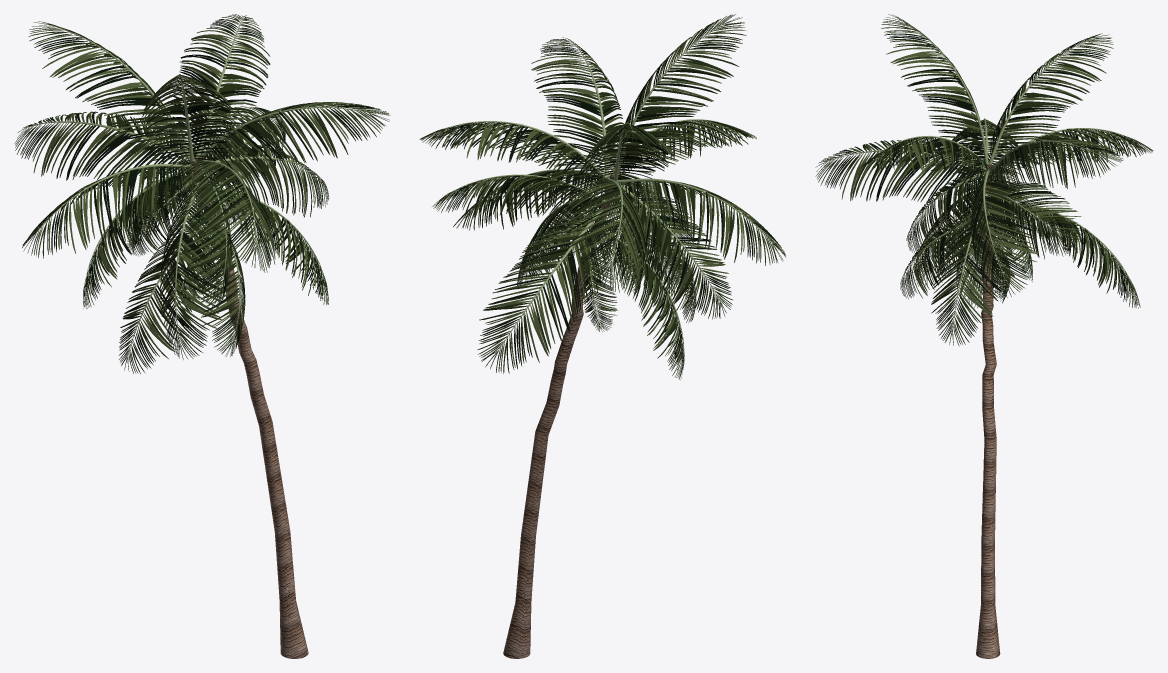
The model's file is PalmTree.fbx.
3 renders of one model, left to right at view 1: azimuth 30°, elevation 25°; view 2: azimuth 150°, elevation 25°; view 3: azimuth 270°, elevation 25°, orthographic. The views are drawn at different scales.
Visible parts, largest first — view 1: Palm_Tree2; view 2: Palm_Tree2; view 3: Palm_Tree2.
Boxes of the visible parts, bbox=[...] form: Palm_Tree2: bbox=[14, 14, 390, 658]; Palm_Tree2: bbox=[419, 14, 786, 658]; Palm_Tree2: bbox=[815, 14, 1153, 658].
Bounding box in the file's own units: 302 × 590 × 319.
Materials: 5 (1 with a texture image).
